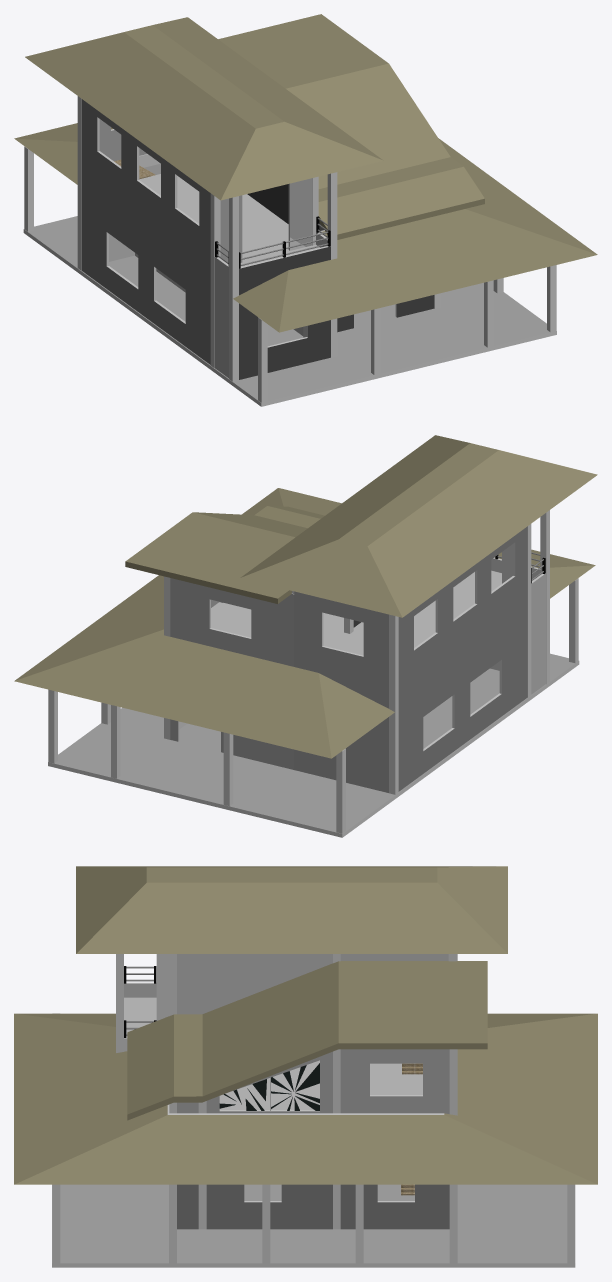
File: Apocalipse Z - Casa C3 -  01 cinza.fbx
3 renders of one model, top to bottom at view 1: azimuth 30°, elevation 25°; view 2: azimuth 150°, elevation 25°; view 3: azimuth 270°, elevation 25°, orthographic. The views are drawn at different scales.
Parts seen in each view (by area): view 1: Cubo.002; view 2: Cubo.002; view 3: Cubo.002.
Part boxes in pixels (<box>): Cubo.002: <box>14,14,597,406</box>; Cubo.002: <box>14,435,597,837</box>; Cubo.002: <box>14,866,597,1267</box>.
Bounding box in the file's own units: 3548 × 2308 × 4669.
Materials: 14 (2 with a texture image).
